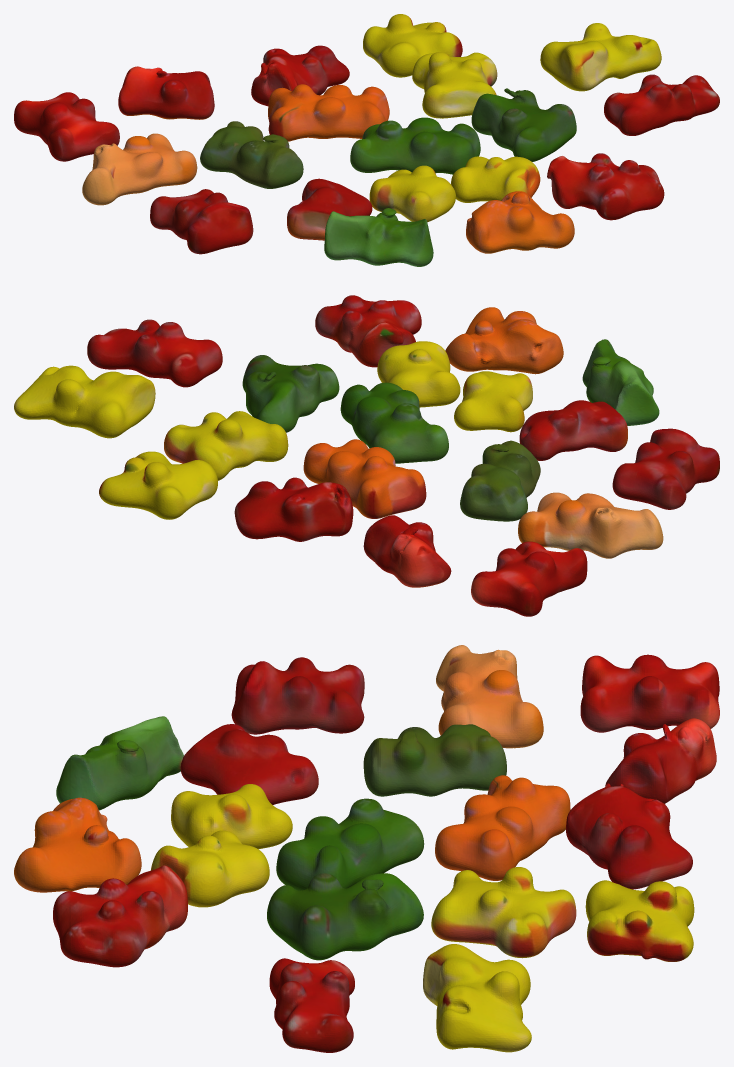
Rendered from topping_gummies.glb.
3 renders of one model, top to bottom at view 1: azimuth 30°, elevation 25°; view 2: azimuth 150°, elevation 25°; view 3: azimuth 270°, elevation 25°, orthographic. The views are drawn at different scales.
Parts seen in each view (by area): view 1: tripo_node_ce1a6ac2-bf30-4eb0-9507-a75113bbd53f; view 2: tripo_node_ce1a6ac2-bf30-4eb0-9507-a75113bbd53f; view 3: tripo_node_ce1a6ac2-bf30-4eb0-9507-a75113bbd53f.
Part boxes in pixels (bbox=[...]): tripo_node_ce1a6ac2-bf30-4eb0-9507-a75113bbd53f: bbox=[14, 14, 719, 266]; tripo_node_ce1a6ac2-bf30-4eb0-9507-a75113bbd53f: bbox=[14, 295, 719, 616]; tripo_node_ce1a6ac2-bf30-4eb0-9507-a75113bbd53f: bbox=[14, 645, 719, 1052].
Size of the model in its own units: 1 by 0.0768 by 0.7935.
Materials: 1 (1 with a texture image).
